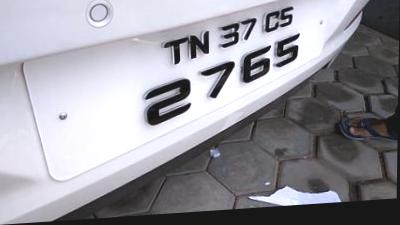License_Plate: (137, 0, 302, 138)
